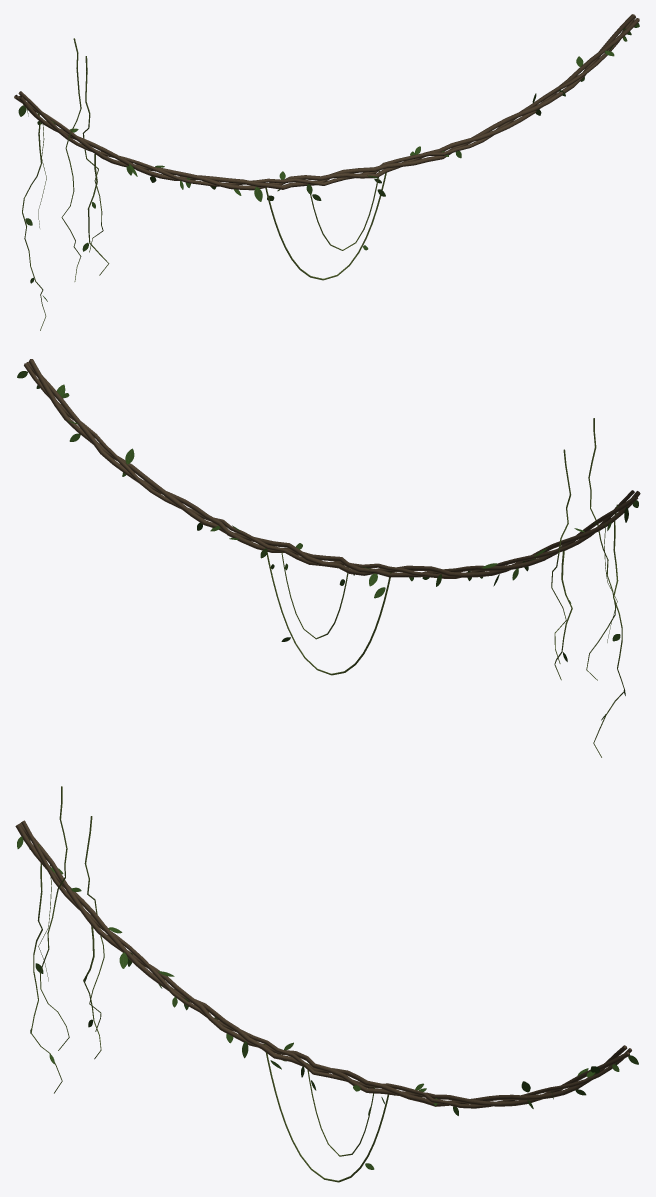
The model's file is liana_span_braid_02_lod1.gltf.
3 views of the same model, one above another, from view 1: azimuth 30°, elevation 25°; view 2: azimuth 150°, elevation 25°; view 3: azimuth 330°, elevation 25° (orthographic). The views are drawn at different scales.
Parts seen in each view (by area): view 1: liana_span_braid_02; view 2: liana_span_braid_02; view 3: liana_span_braid_02.
Boxes of the visible parts, left/top/right/bottom form: liana_span_braid_02: left=14, top=14, right=639, bottom=330; liana_span_braid_02: left=17, top=359, right=640, bottom=757; liana_span_braid_02: left=15, top=786, right=638, bottom=1182.
Size of the model in its own units: 7.15 by 3.4 by 0.8904.
3 materials, 3 textured.
